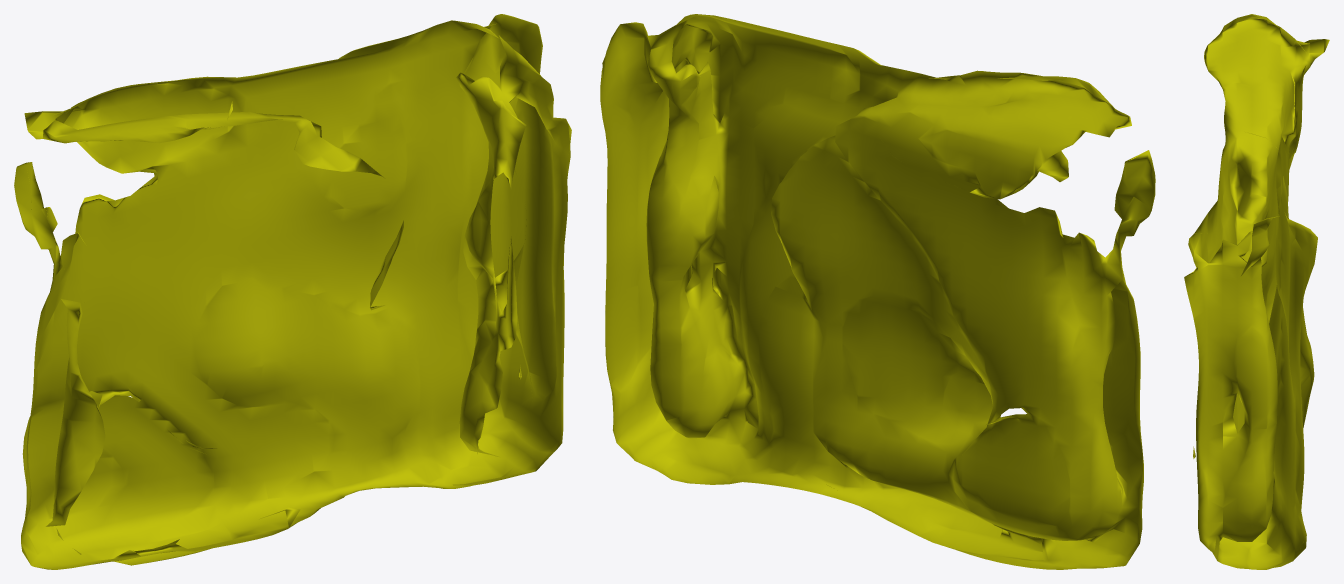
3 renders of one model, left to right at view 1: azimuth 30°, elevation 25°; view 2: azimuth 150°, elevation 25°; view 3: azimuth 270°, elevation 25°, orthographic. The views are drawn at different scales.
Parts seen in each view (by area): view 1: world; view 2: world; view 3: world.
Part boxes in pixels (bbox=[...]): world: bbox=[14, 14, 571, 569]; world: bbox=[600, 14, 1155, 569]; world: bbox=[1184, 14, 1329, 569].
Size of the model in its own units: 34.89 by 29.83 by 10.02.
